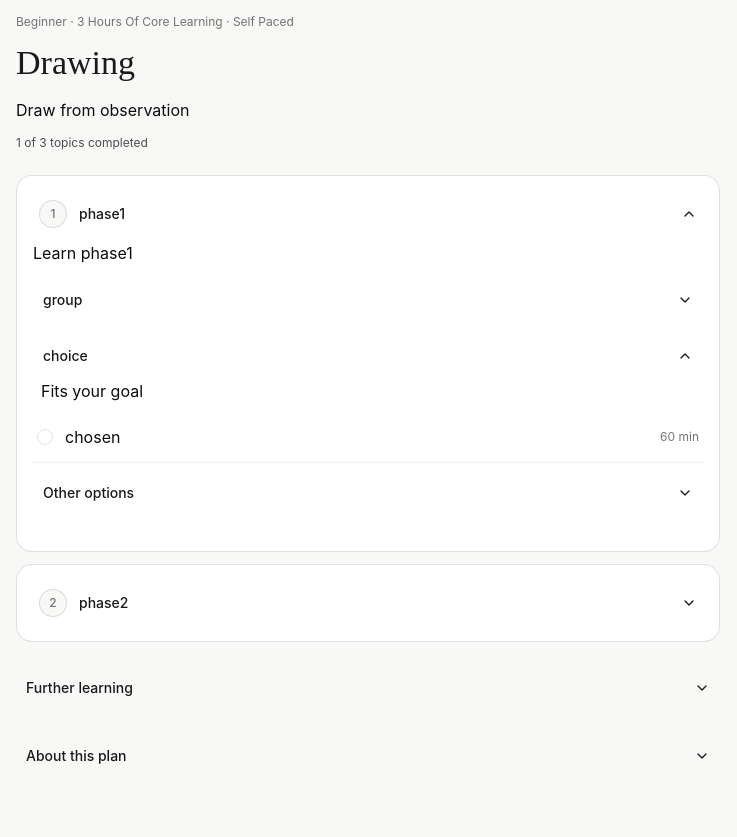
Test: keeps further learning inside a core phase out of the initial path
The width and height of the screenshot is (737, 837).
Click the button "Further learning": [79, 687] box [16,666,720,710]
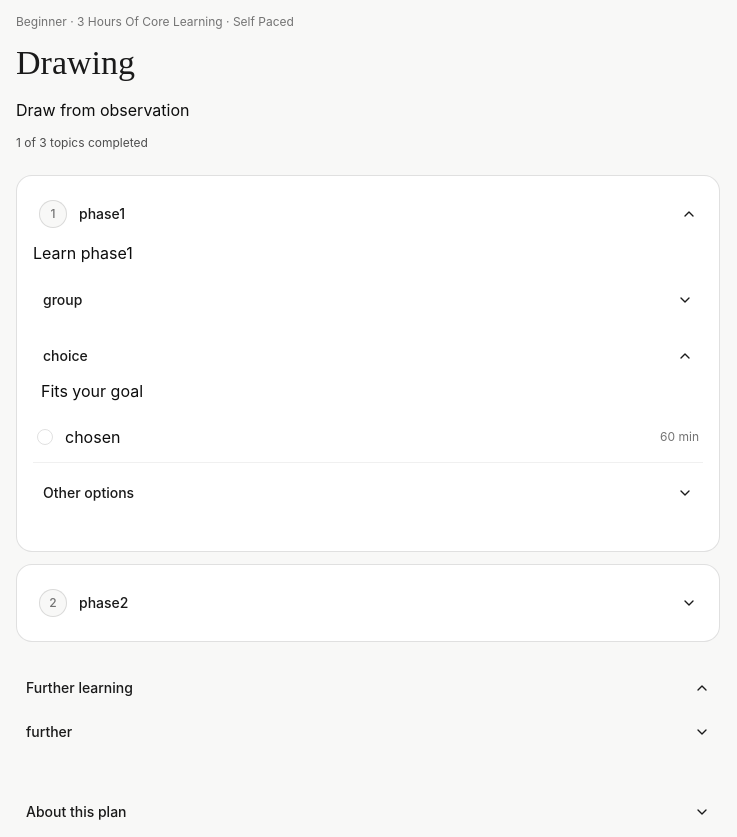
Expected: the button "further" is shown, [16,710,720,754]
